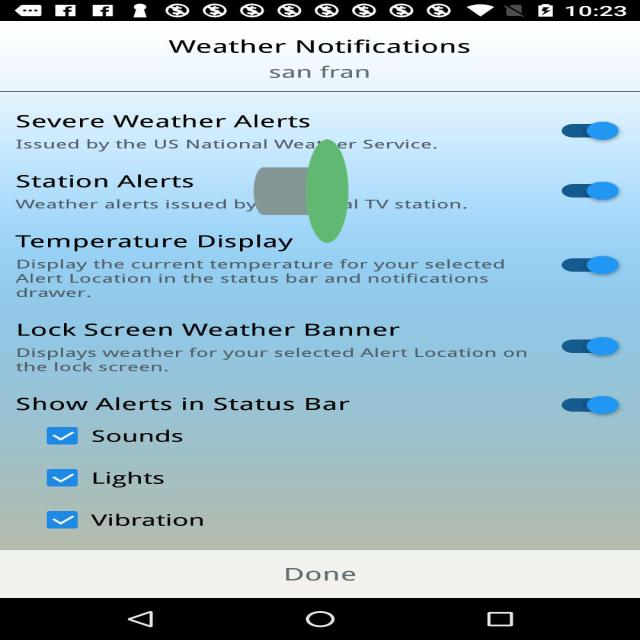social proof: (254, 76, 348, 306)
